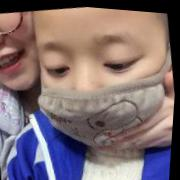NONE: (1, 8, 50, 98)
WRONG: (28, 3, 177, 157)
